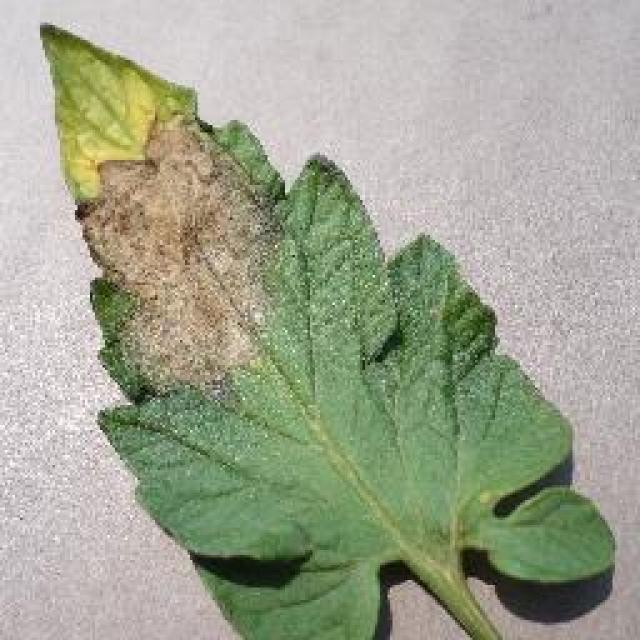Tomato Late Blight: (68, 115, 317, 370)
